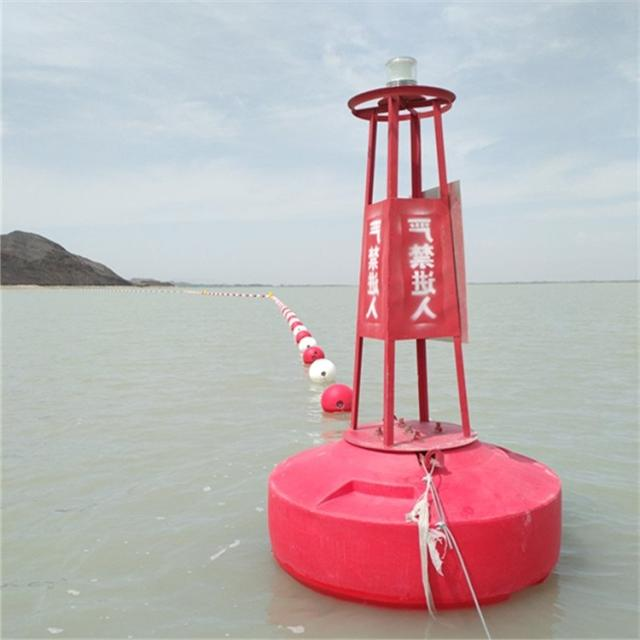buoy: (276, 54, 559, 605)
